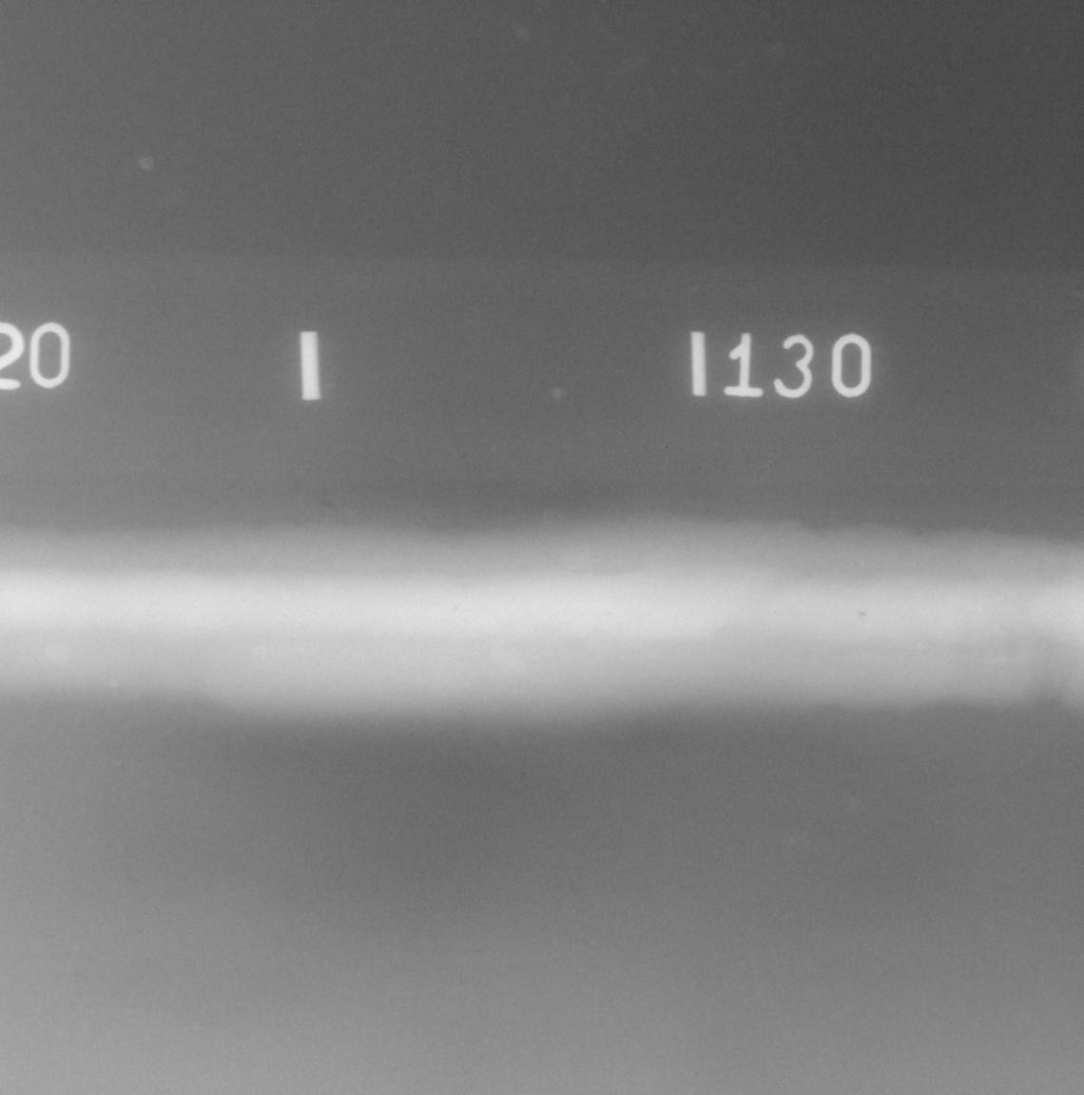Pore/Porosity: (859, 612, 865, 617), (571, 570, 577, 574), (452, 607, 458, 611)
